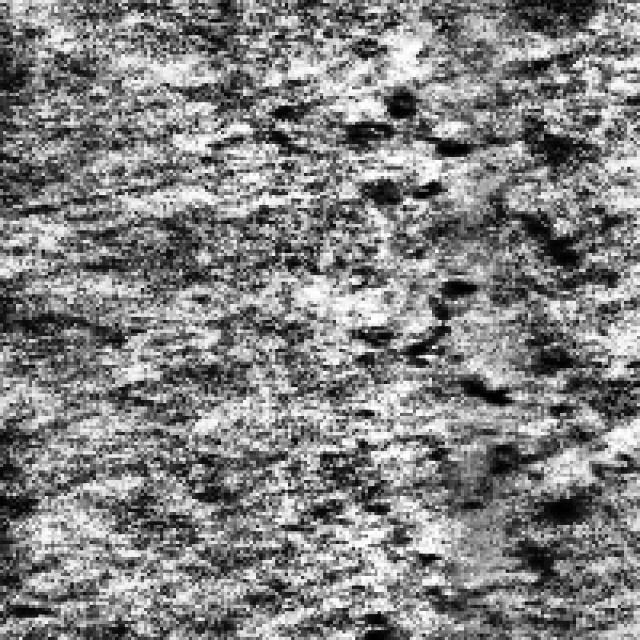Crazing: (399, 262, 566, 576), (330, 83, 468, 205)
